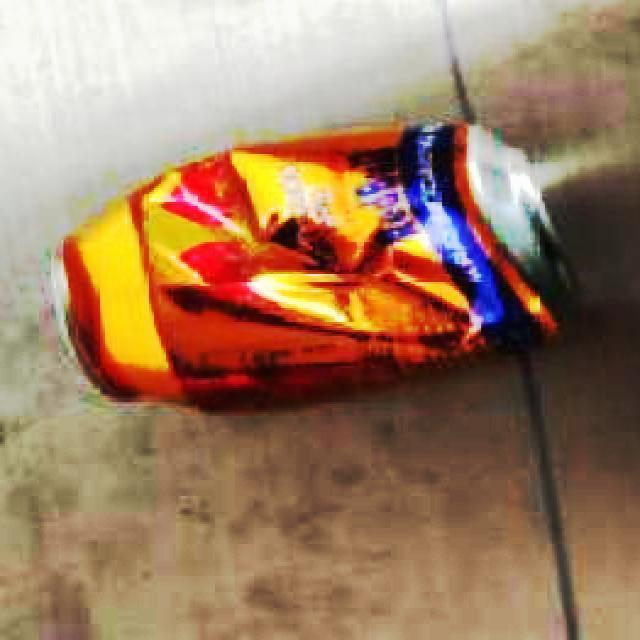Lata: (55, 118, 585, 413)
